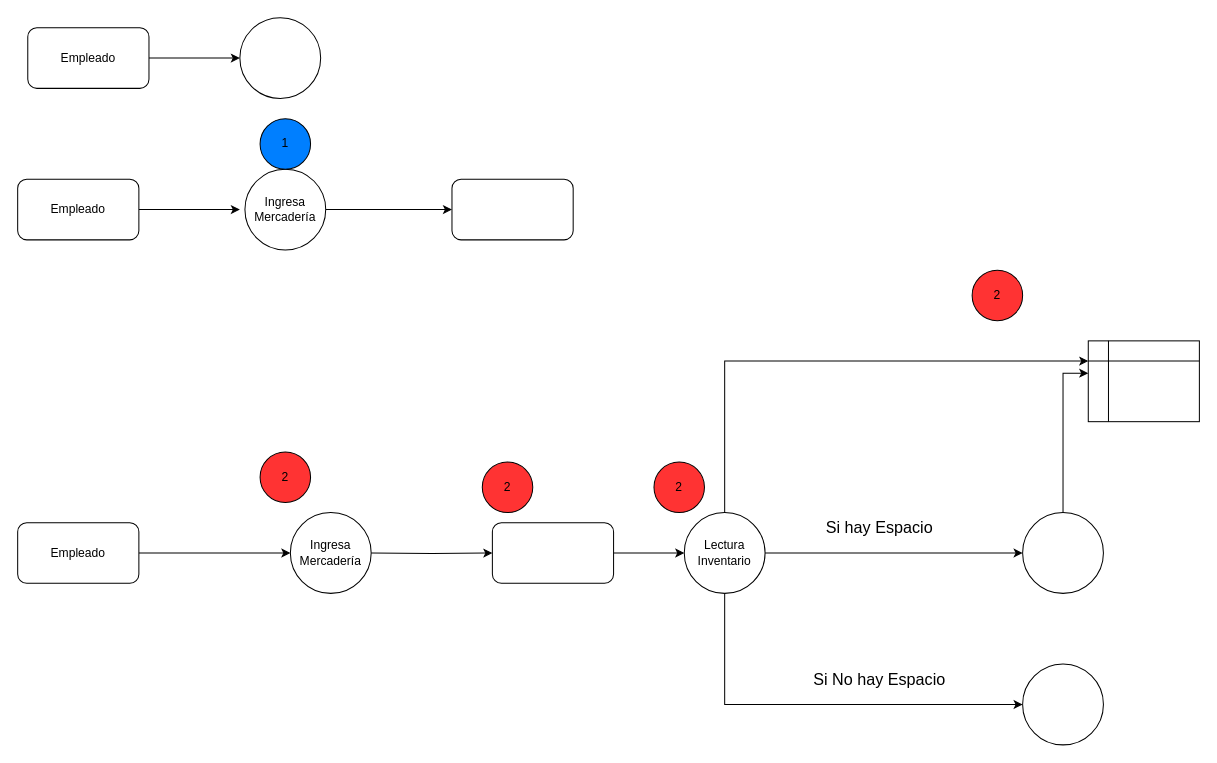
Image size: 1217x763. Some labels were removed from this diagram. Here are the shapes that lost their labels. From the top down, the centre of each, then its label:
pixel 280 57: Sistema Gestor Deposito
pixel 512 209: Sistena
pixel 1143 381: Inventario
pixel 552 552: Sistema gestor
pixel 1062 552: Añadir Stock Inventario
pixel 1062 704: Rechazar Ingreso
